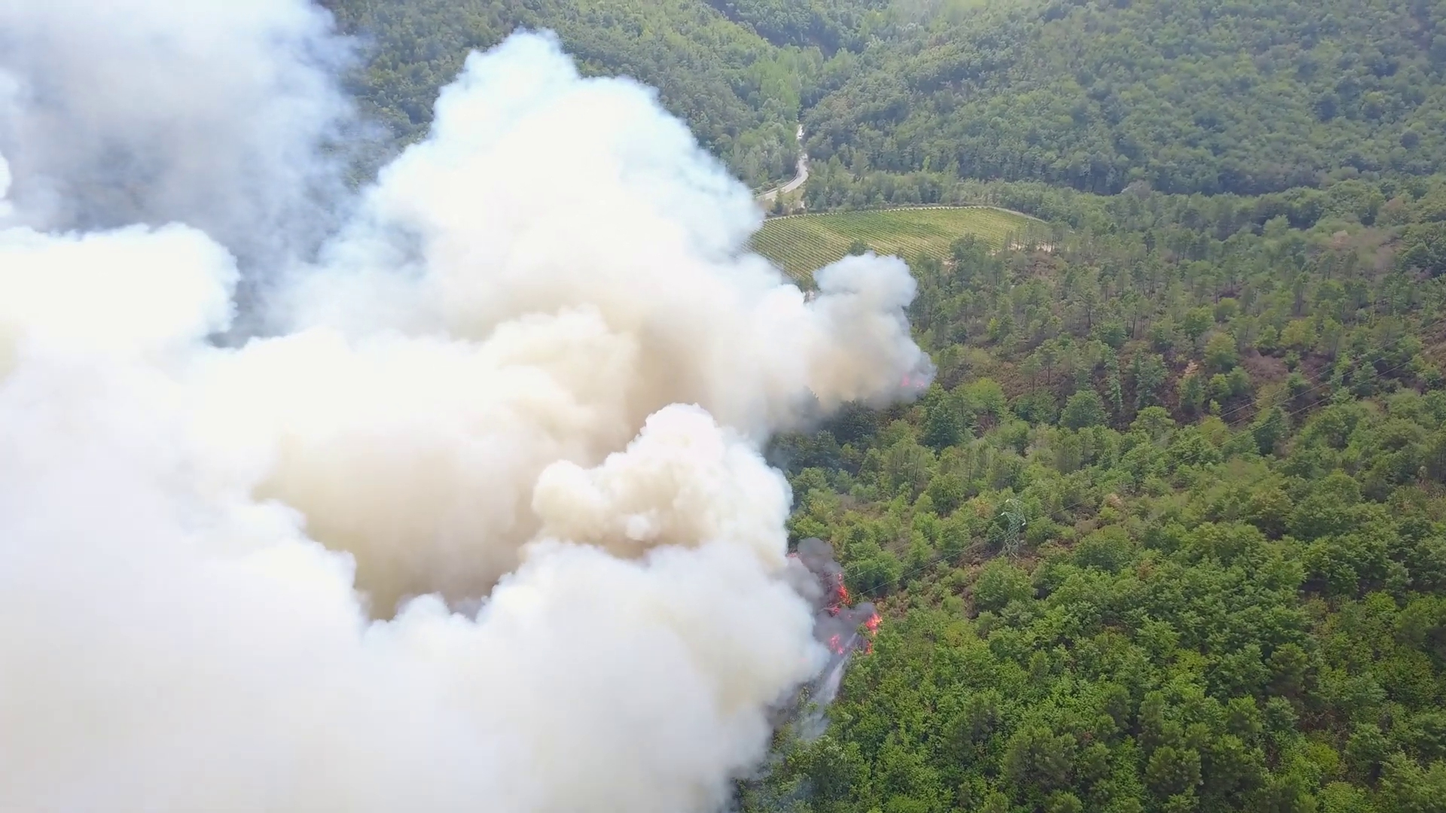forest_fire: (789, 537, 879, 668)
